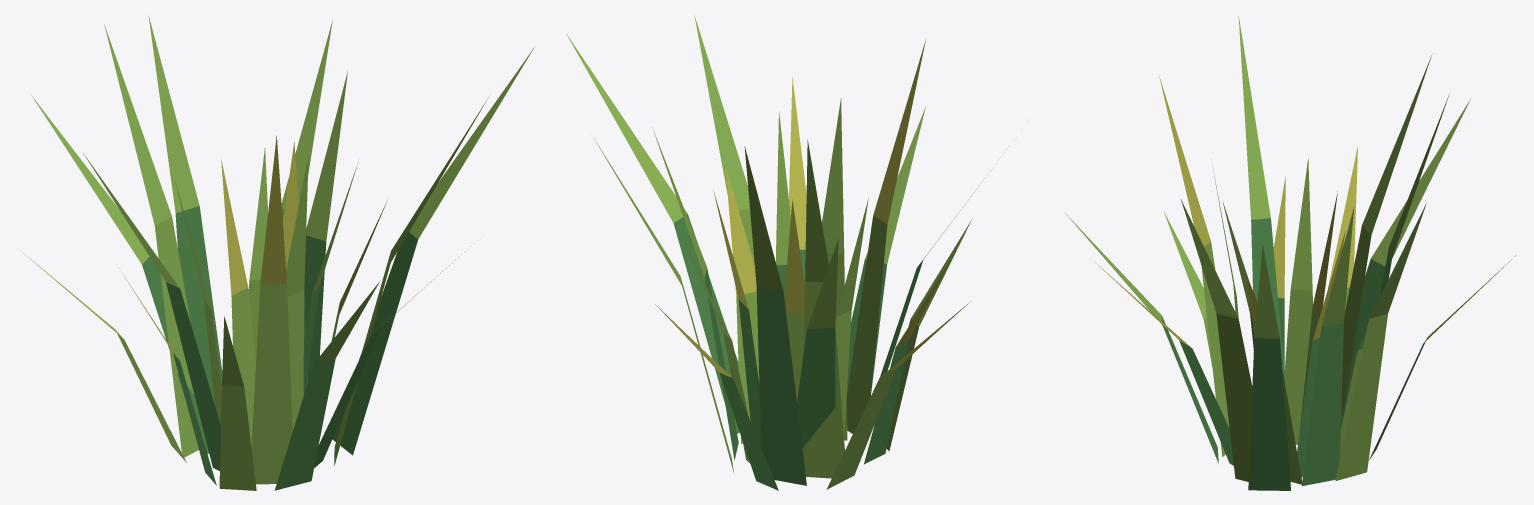
File: grass_tuft.glb
The picture shows the model from 3 angles, left to right: view 1: azimuth 30°, elevation 25°; view 2: azimuth 150°, elevation 25°; view 3: azimuth 270°, elevation 25°; orthographic projection. The views are drawn at different scales.
Visible parts, largest first — view 1: Body; view 2: Body; view 3: Body.
Boxes of the visible parts, x1=… form: Body: x1=19, y1=16, x2=534, y2=490; Body: x1=566, y1=15, x2=996, y2=490; Body: x1=1064, y1=16, x2=1516, y2=490.
Bounding box in the file's own units: 0.7349 × 0.5934 × 0.6659.
